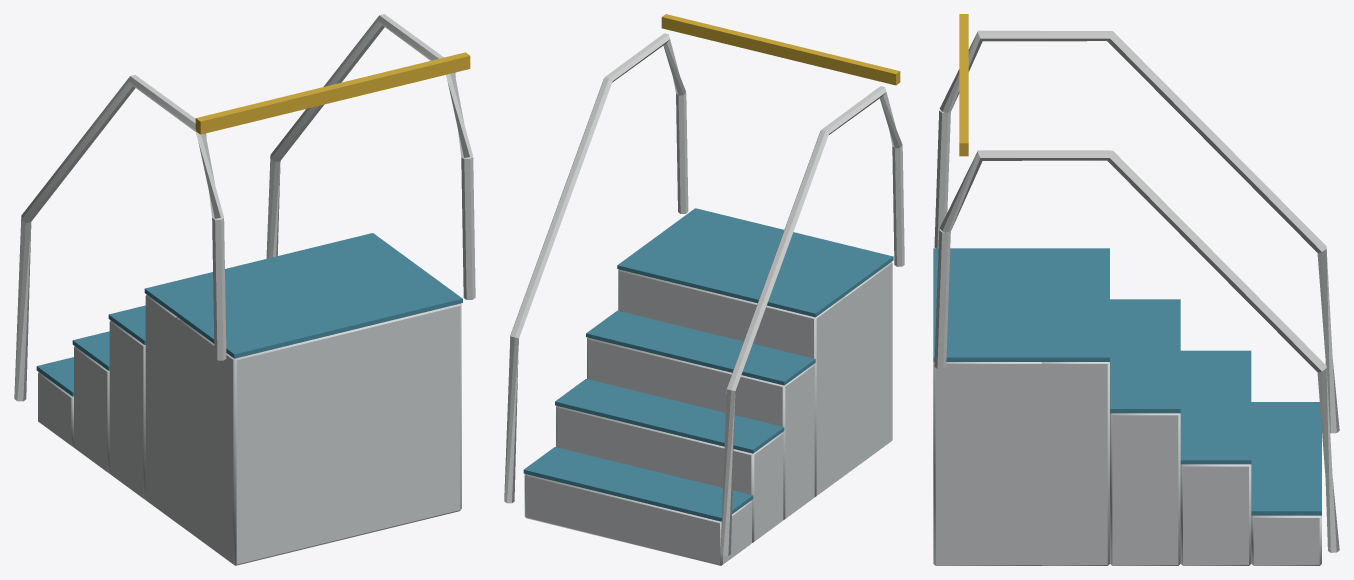
File: slide_top.glb
3 views of the same model, side by side, from view 1: azimuth 30°, elevation 25°; view 2: azimuth 150°, elevation 25°; view 3: azimuth 270°, elevation 25° (orthographic). The views are drawn at different scales.
Visible parts, largest first — view 1: SlideTop; view 2: SlideTop; view 3: SlideTop.
Part boxes in pixels (x1=…): SlideTop: x1=14, y1=14, x2=475, y2=565; SlideTop: x1=504, y1=14, x2=904, y2=565; SlideTop: x1=933, y1=14, x2=1339, y2=565.
Size of the model in its own units: 1.3 by 2.03 by 1.72.
